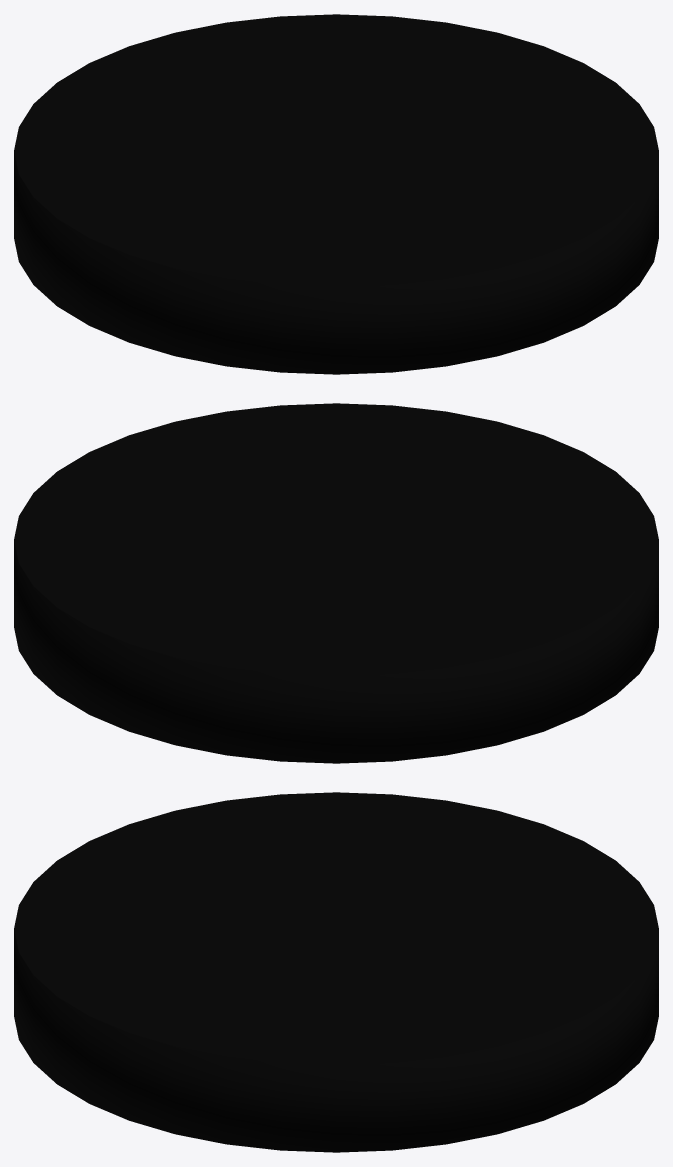
The model's file is smallPlatform.glb.
The picture shows the model from 3 angles, top to bottom: view 1: azimuth 30°, elevation 25°; view 2: azimuth 150°, elevation 25°; view 3: azimuth 270°, elevation 25°; orthographic projection.
Visible parts, largest first — view 1: SmallPlatform; view 2: SmallPlatform; view 3: SmallPlatform.
Boxes of the visible parts, <box> form: SmallPlatform: <box>14,14,658,374</box>; SmallPlatform: <box>14,403,658,763</box>; SmallPlatform: <box>14,792,658,1152</box>.
Size of what is drawn, in the model's own units: 2 by 0.3 by 2.
Materials: 1 (1 with a texture image).
